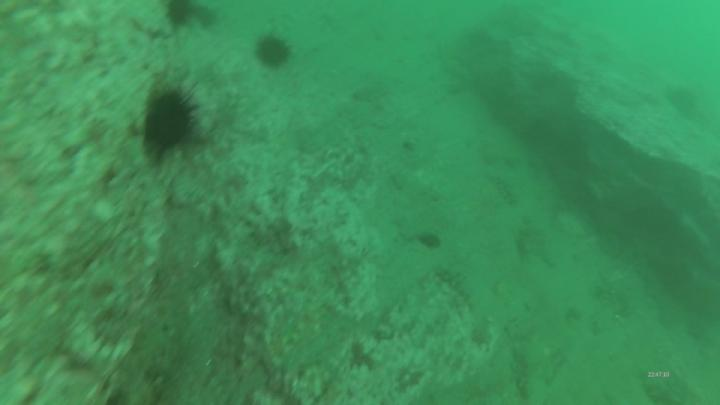echinus: (143, 77, 202, 162), (252, 28, 294, 74), (665, 83, 702, 121), (167, 1, 197, 33)
holothurian: (431, 265, 477, 307), (482, 169, 521, 211)
